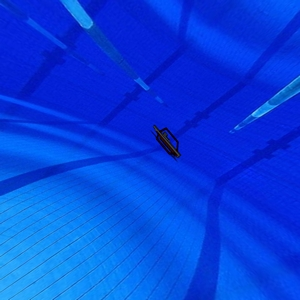submarine: (151, 122, 191, 163)
